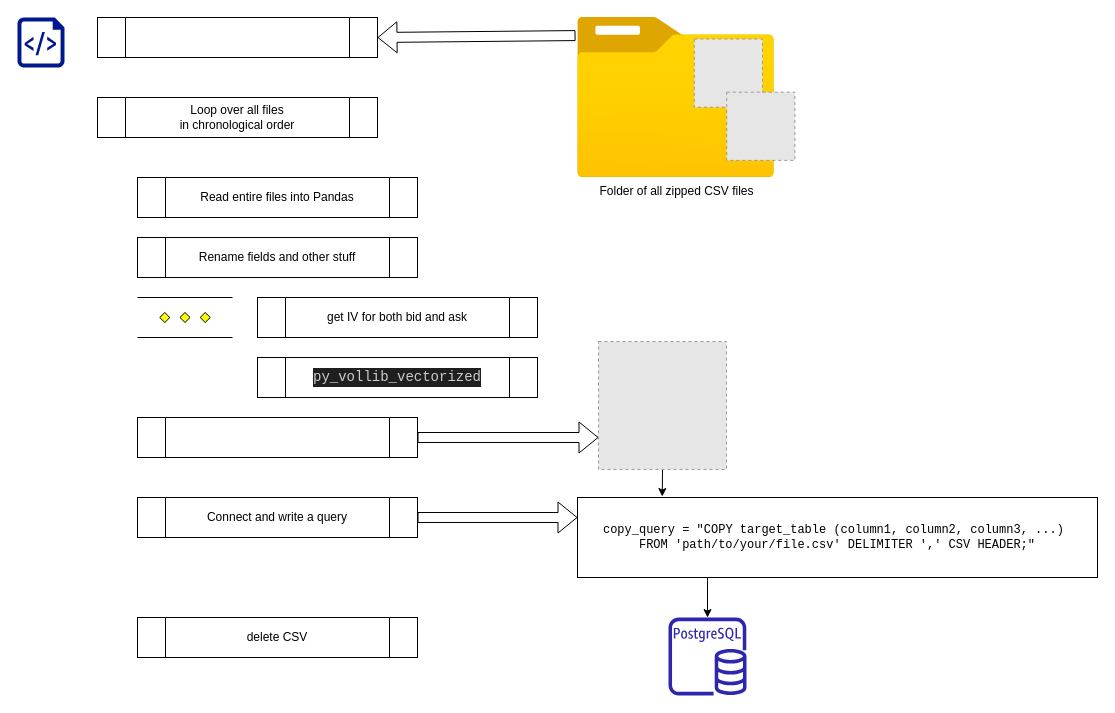
Some shapes in this 1115 by 713 pixel diagram are drawn without their labels. Grey dashed boxes stand in for pictures. Here are the shapes that lost their labels. From the top down, the centre of each, then its label:
(x=40, y=42): Python
(x=237, y=37): Get file list
(x=184, y=317): Parallel
(x=277, y=437): Write file to CSV
